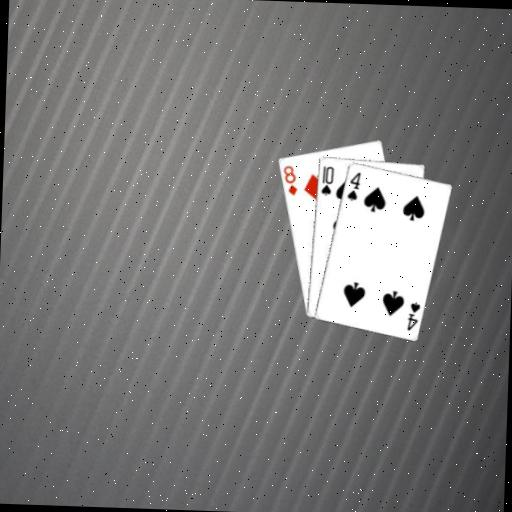10S: (317, 162, 335, 197)
4S: (344, 168, 362, 202), (403, 298, 421, 332)
8D: (279, 161, 299, 197)
